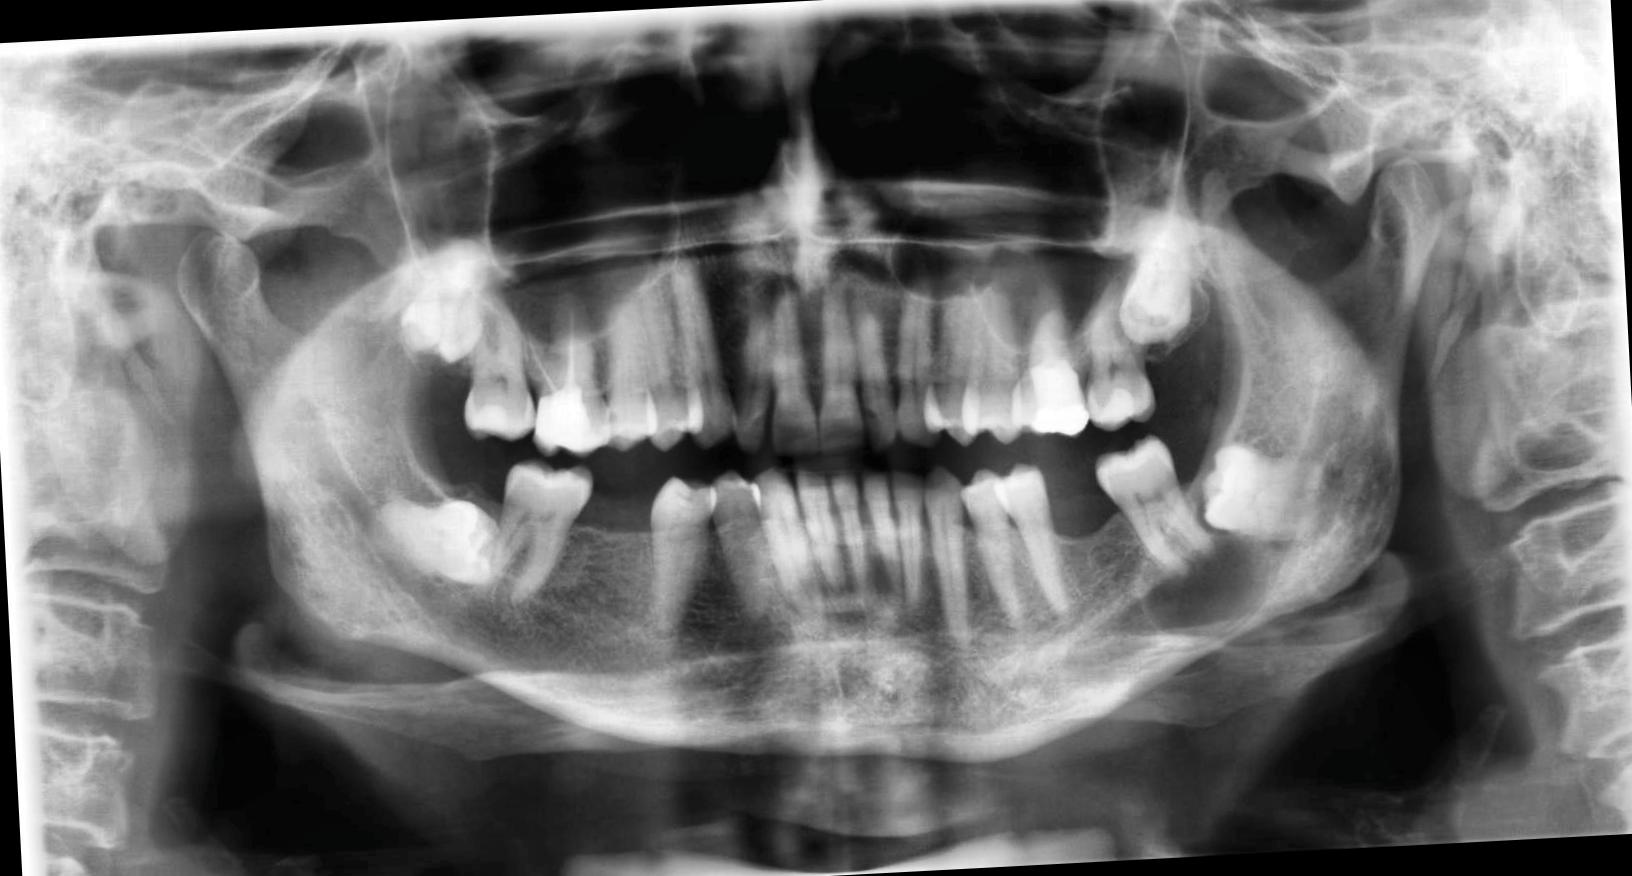dentigeroz: (1134, 496, 1278, 642)
